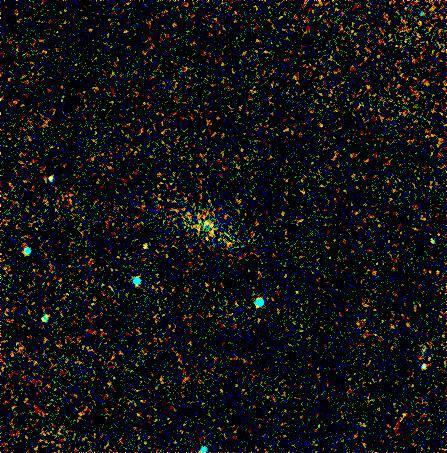star: (132, 229, 162, 259)
